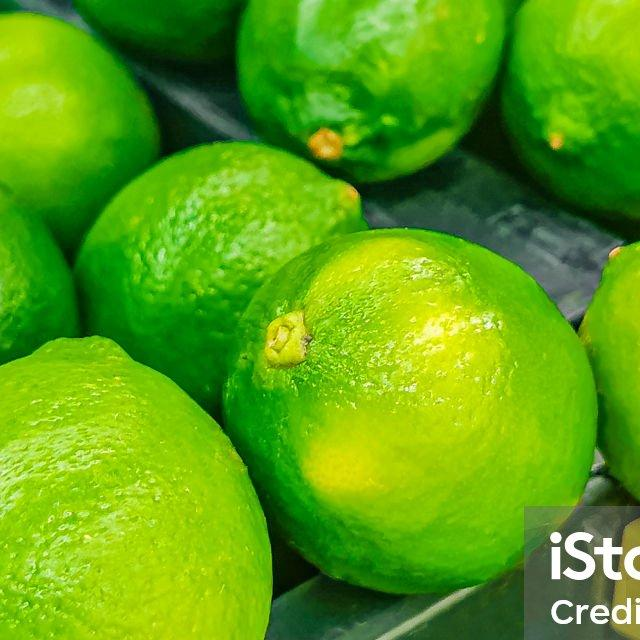lime: (213, 231, 598, 601), (0, 336, 281, 640), (237, 0, 523, 183)
